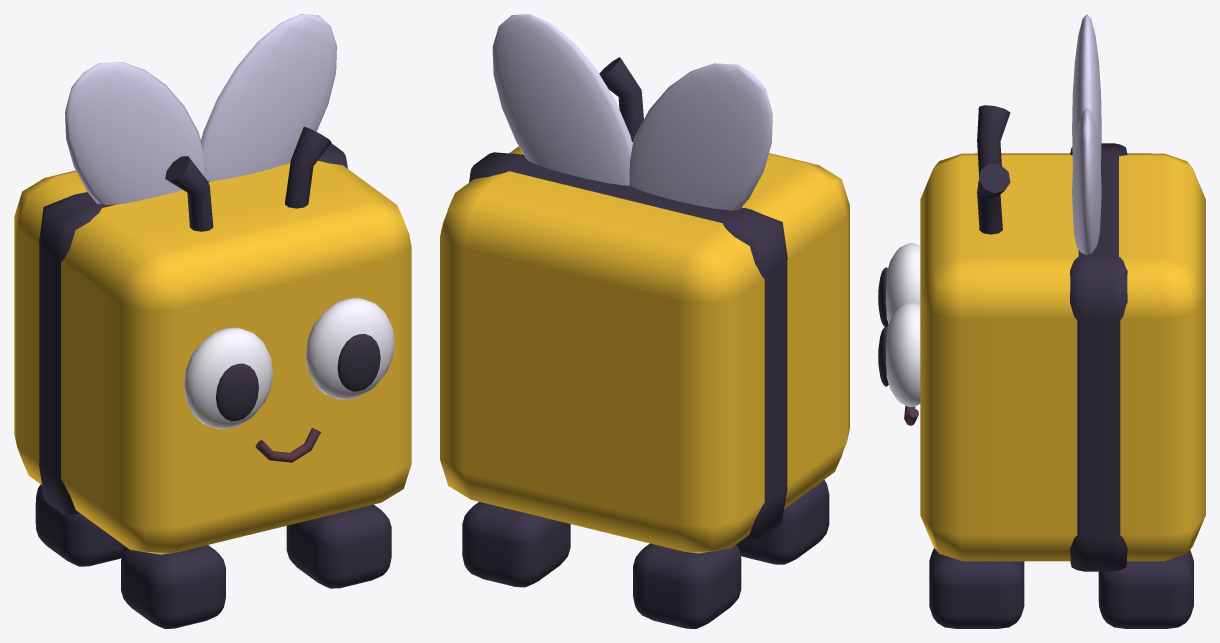
The model's file is pet-bee.glb.
3 views of the same model, side by side, from view 1: azimuth 30°, elevation 25°; view 2: azimuth 150°, elevation 25°; view 3: azimuth 270°, elevation 25° (orthographic). The views are drawn at different scales.
Parts seen in each view (by area): view 1: body, wing_1, wing_-1, black_band, foot_L_front, foot_R_front, eye_white_-1, eye_white_1, foot_L_back, antenna_1, antenna_-1, pupil_-1 (+2 smaller); view 2: body, wing_-1, wing_1, black_band, foot_L_back, foot_R_back, foot_L_front, antenna_1; view 3: body, black_band, foot_R_front, foot_R_back, wing_1, eye_white_1, wing_-1, eye_white_-1, antenna_1, antenna_-1.
Part boxes in pixels (box(x1,y1,x2,y2)): body: box(14, 160, 411, 554); wing_1: box(201, 14, 336, 181); wing_-1: box(65, 62, 203, 204); black_band: box(39, 143, 347, 514); foot_L_front: box(121, 545, 225, 628); foot_R_front: box(286, 504, 391, 588); eye_white_-1: box(184, 327, 273, 429); eye_white_1: box(305, 298, 394, 399); foot_L_back: box(35, 484, 125, 566); antenna_1: box(285, 126, 331, 208); antenna_-1: box(165, 156, 213, 231); pupil_-1: box(216, 363, 258, 421); body: box(440, 142, 849, 553); wing_-1: box(629, 63, 772, 210); wing_1: box(492, 14, 632, 185); black_band: box(469, 152, 787, 539); foot_L_back: box(633, 543, 741, 628); foot_R_back: box(462, 501, 570, 587); foot_L_front: box(736, 480, 829, 564); antenna_1: box(599, 57, 643, 141); body: box(920, 153, 1205, 561); black_band: box(1070, 143, 1127, 571); foot_R_front: box(929, 548, 1024, 628); foot_R_back: box(1098, 550, 1193, 628); wing_1: box(1072, 108, 1101, 255); eye_white_1: box(885, 302, 920, 406); wing_-1: box(1072, 14, 1101, 167); eye_white_-1: box(885, 243, 920, 324); antenna_1: box(977, 164, 1010, 234); antenna_-1: box(977, 105, 1010, 177).
Bounding box in the file's own units: 1.13 × 1.9 × 1.1.
